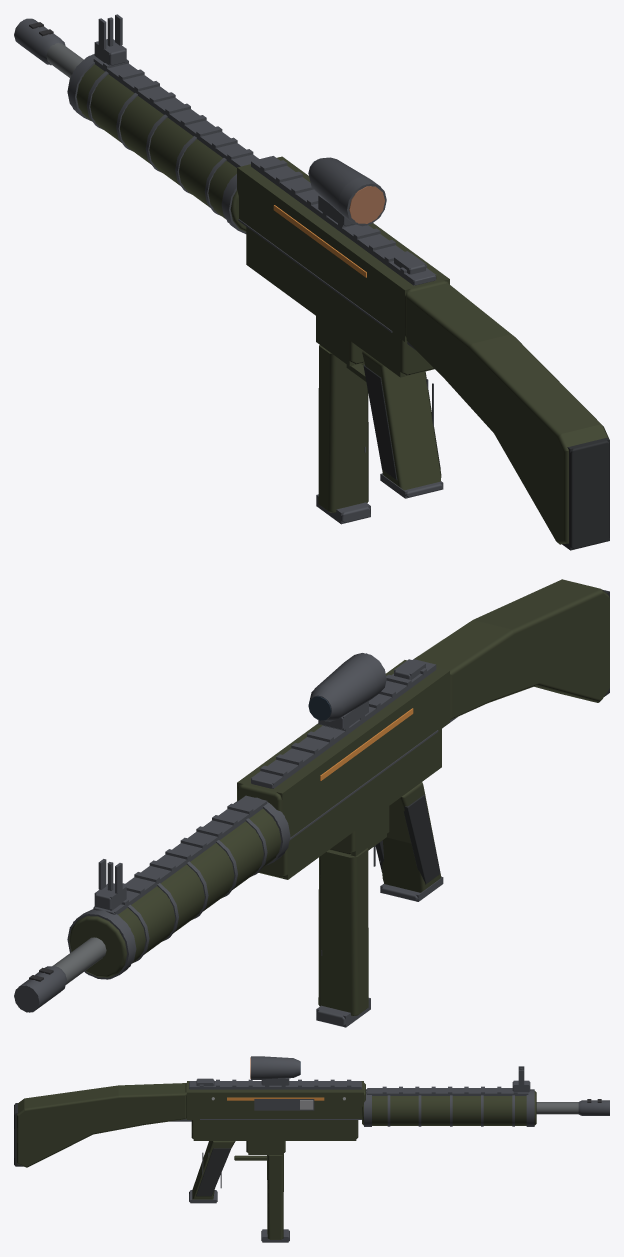
Rendered from ranger.glb.
3 renders of one model, top to bottom at view 1: azimuth 30°, elevation 25°; view 2: azimuth 150°, elevation 25°; view 3: azimuth 270°, elevation 25°, orthographic. The views are drawn at different scales.
Visible parts, largest first — view 1: L0, L1; view 2: L0, L1; view 3: L0, L1.
Part boxes in pixels (left/top/right/bottom): L0: left=14, top=14, right=609, bottom=549; L1: left=15, top=14, right=609, bottom=550; L0: left=14, top=579, right=609, bottom=1026; L1: left=14, top=590, right=609, bottom=1027; L0: left=14, top=1056, right=609, bottom=1241; L1: left=15, top=1057, right=609, bottom=1242.
Bounding box in the file's own units: 0.0572 × 0.306 × 0.9088.
